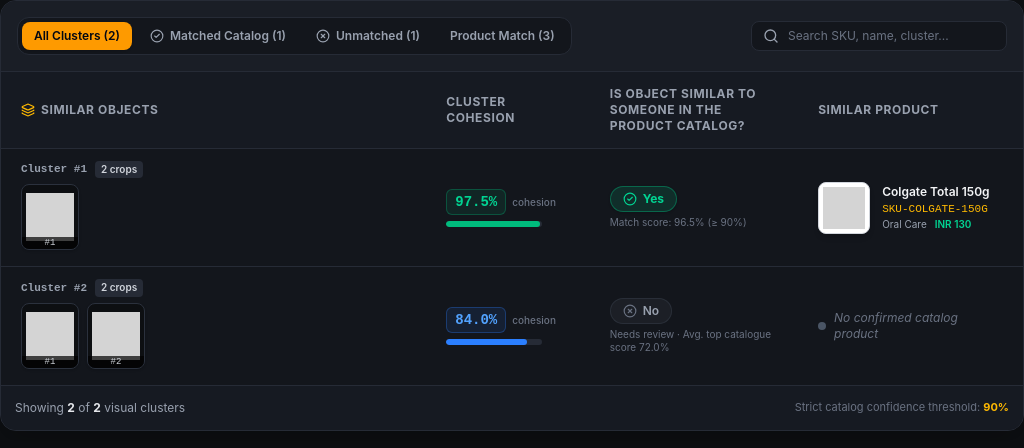
Test: AnalysisTable Component (4-Column Specification) › filters table rows by Matched and Unmatched pills
The width and height of the screenshot is (1024, 448).
# Click Matched Catalog button
Click the button with test id "filter-matched-btn": (218, 36) [138, 22, 298, 50]
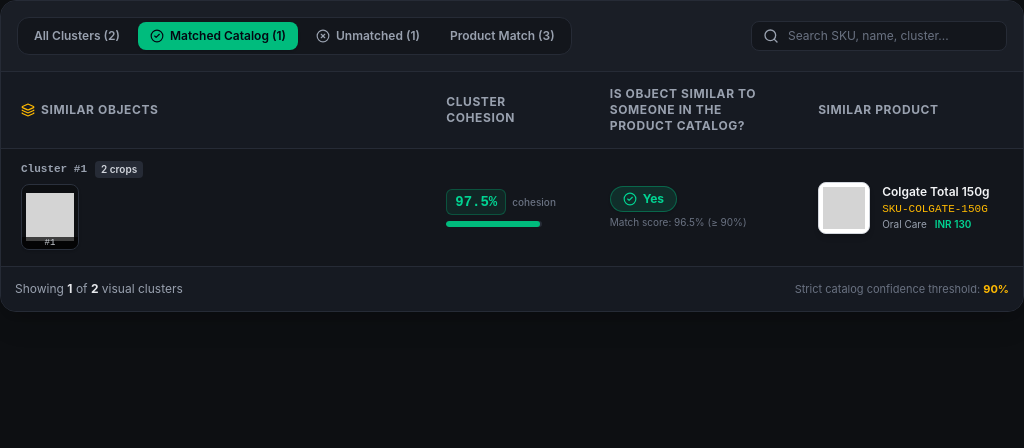
Expected: the row with test id "cluster-row-1" is shown, [1, 148, 1023, 266]
Expected: the row with test id "cluster-row-2" is gone
# Click Unmatched button
Click the button with test id "filter-unmatched-btn": (368, 36) [304, 22, 432, 50]
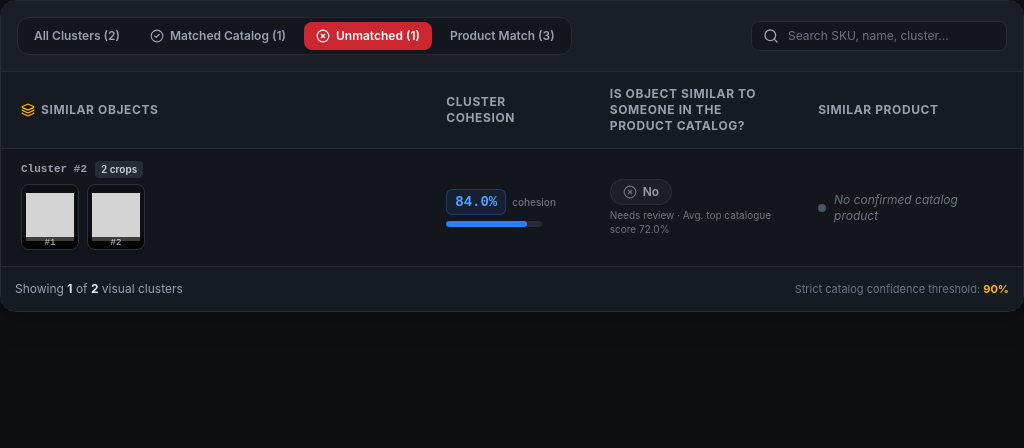
Expected: the row with test id "cluster-row-1" is gone
Expected: the row with test id "cluster-row-2" is shown, [1, 148, 1023, 266]
